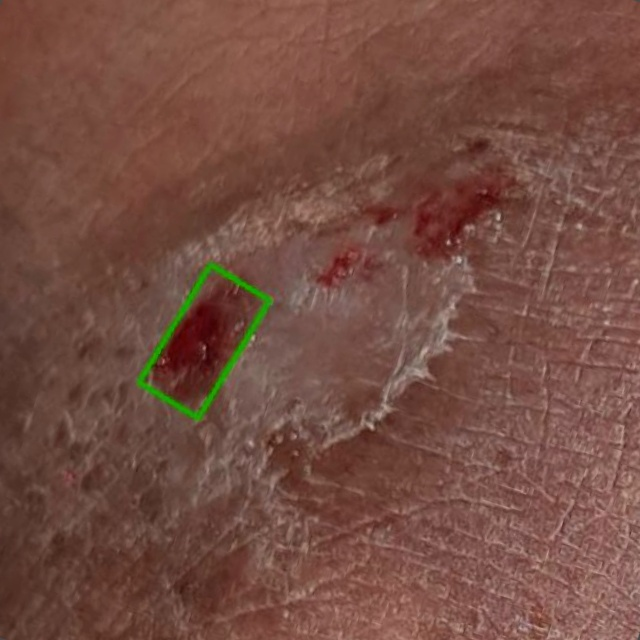Contact Dermatitis: (139, 264, 270, 418)
